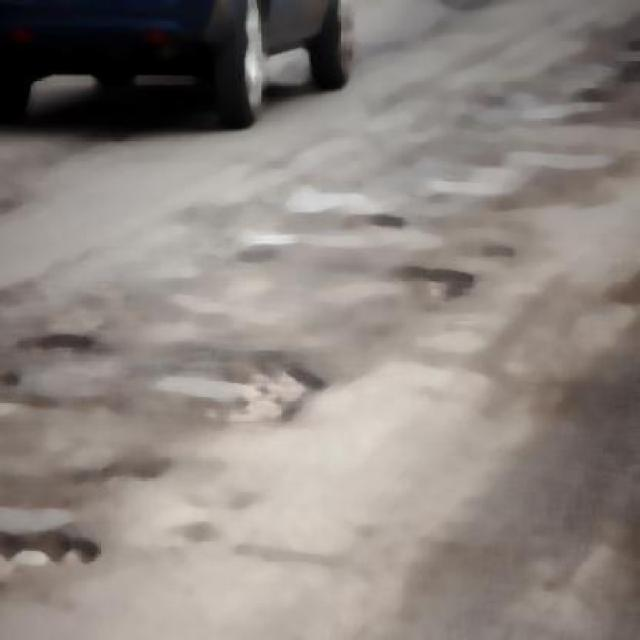Pothole: (175, 352, 307, 436), (0, 519, 111, 590), (405, 260, 481, 326), (0, 367, 18, 420)
